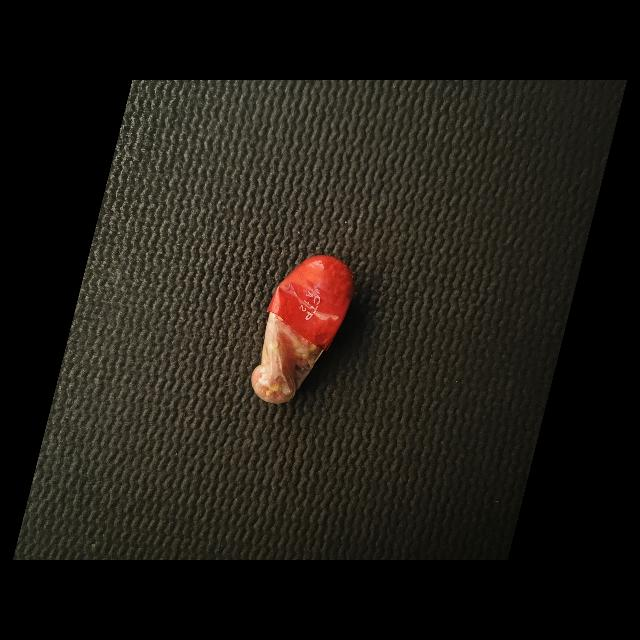Defective Capsule: (251, 255, 354, 404)
